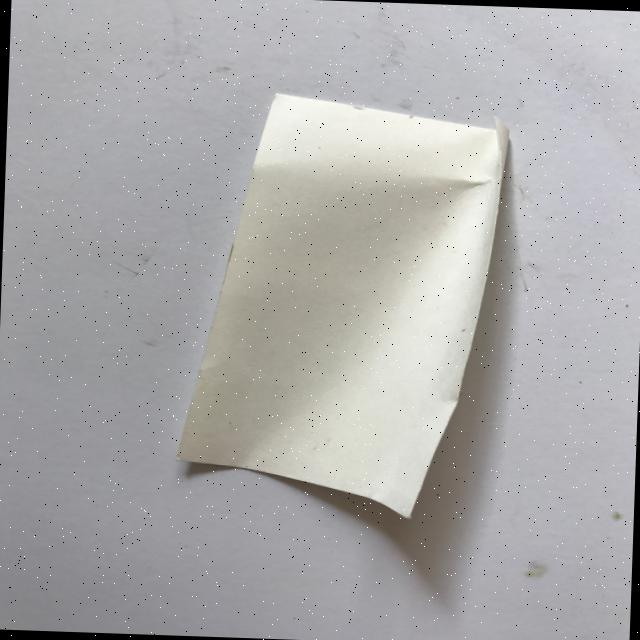paper: (172, 89, 510, 522)
